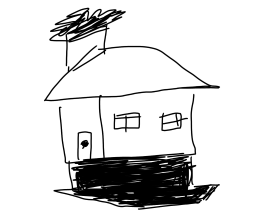closed_window: (157, 108, 188, 139), (107, 109, 144, 134)
door: (76, 126, 94, 165)
roof: (42, 43, 220, 102)
shadow: (52, 156, 223, 212)
smoking_chimney: (47, 2, 129, 74)
wall: (49, 82, 202, 163)
